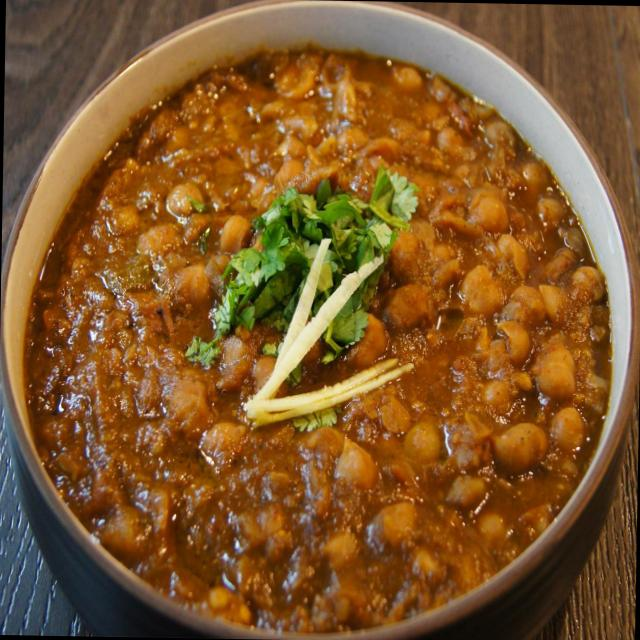Chole: (17, 38, 619, 640)
